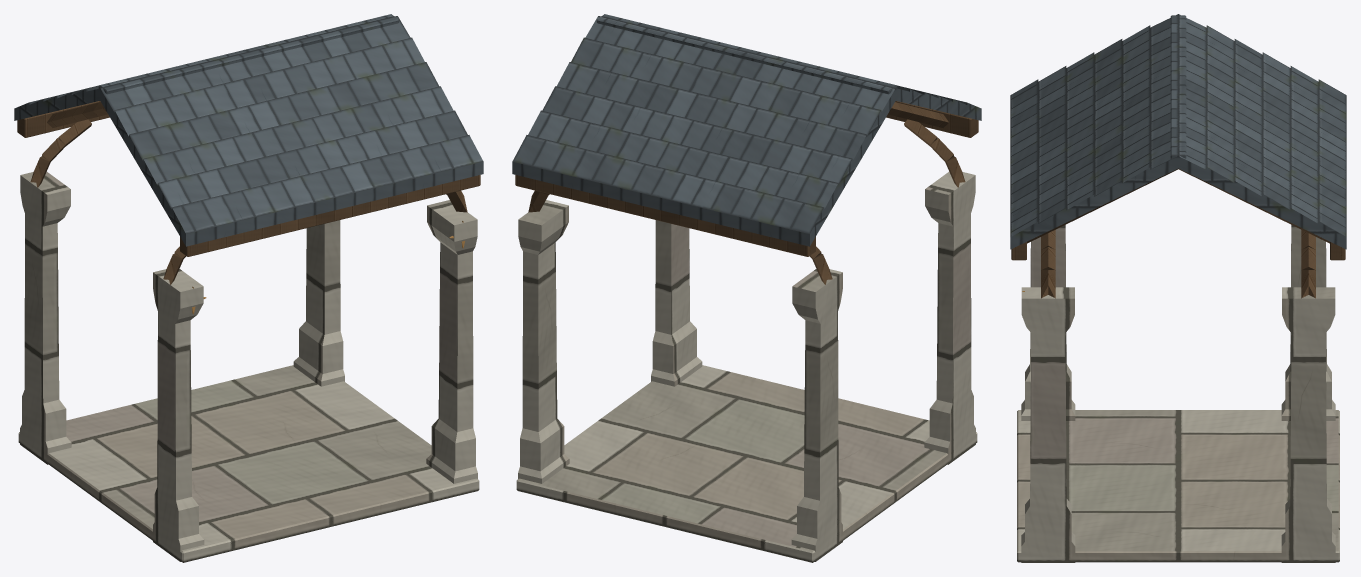
The model's file is Furn_Walkway2_Straight.fbx.
The picture shows the model from 3 angles, left to right: view 1: azimuth 30°, elevation 25°; view 2: azimuth 150°, elevation 25°; view 3: azimuth 270°, elevation 25°; orthographic projection. The views are drawn at different scales.
Visible parts, largest first — view 1: Furn_Walkway2_Straight_Mesh; view 2: Furn_Walkway2_Straight_Mesh; view 3: Furn_Walkway2_Straight_Mesh.
Part boxes in pixels (left/top/right/bottom): Furn_Walkway2_Straight_Mesh: left=14, top=14, right=483, bottom=562; Furn_Walkway2_Straight_Mesh: left=512, top=14, right=981, bottom=562; Furn_Walkway2_Straight_Mesh: left=1010, top=14, right=1346, bottom=562.
Size of the model in its own units: 3 by 4 by 3.
Materials: 4 (3 with a texture image).
